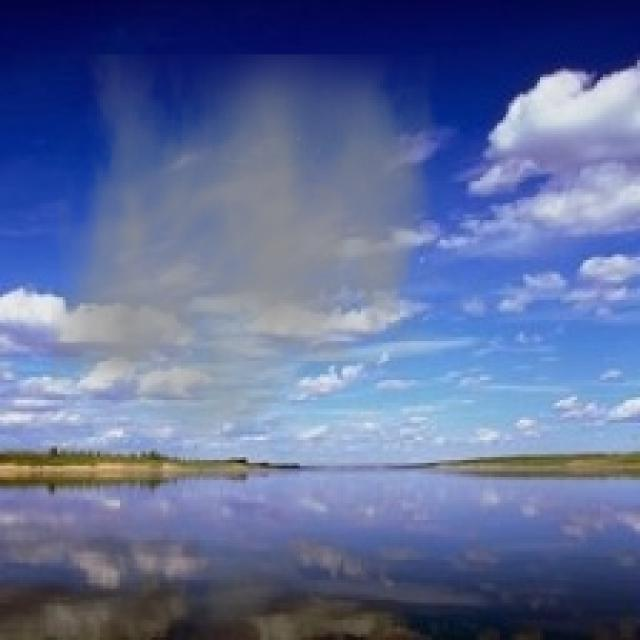Smoke: (52, 54, 437, 457)
